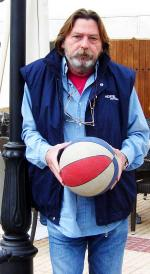basketball: (59, 137, 119, 197)
